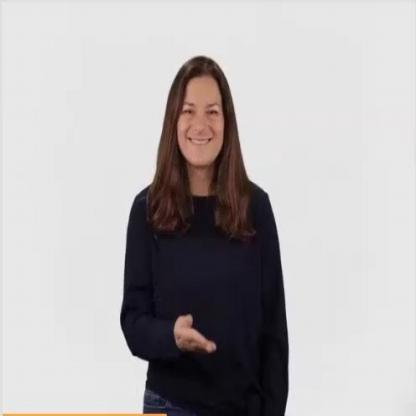ThankYou: (134, 46, 250, 373)
